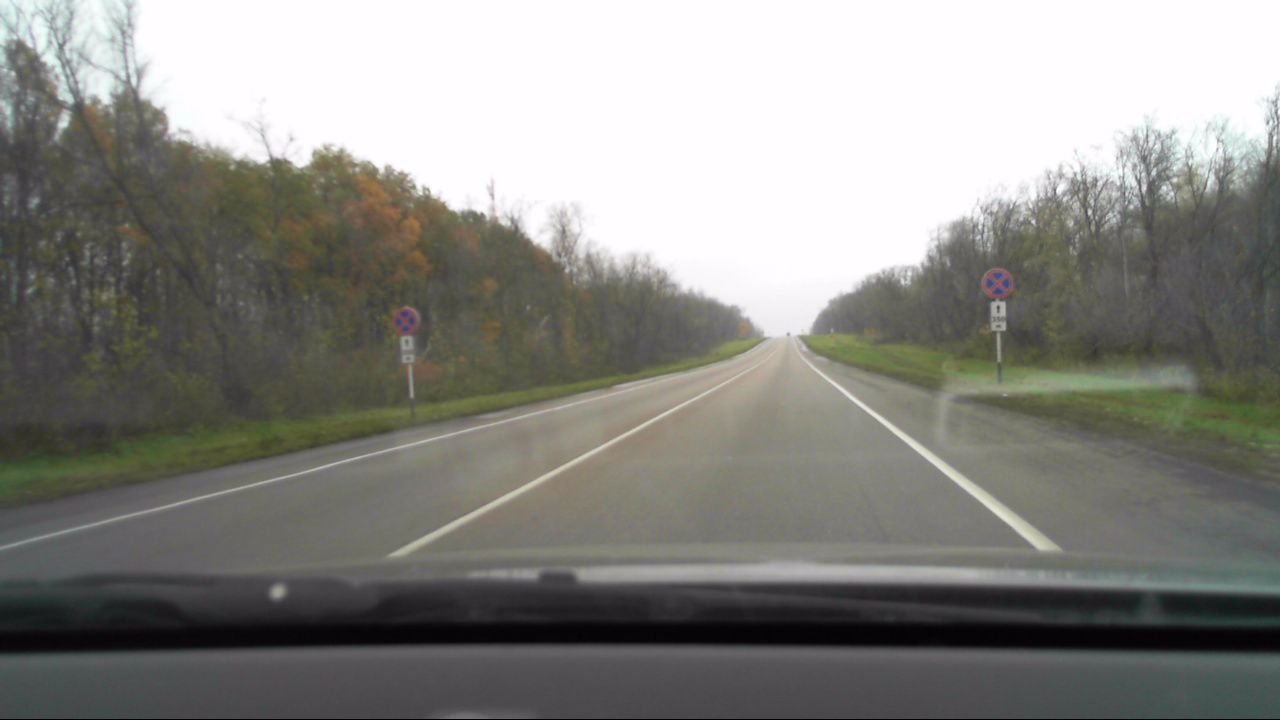No Parking: (391, 303, 420, 333)
